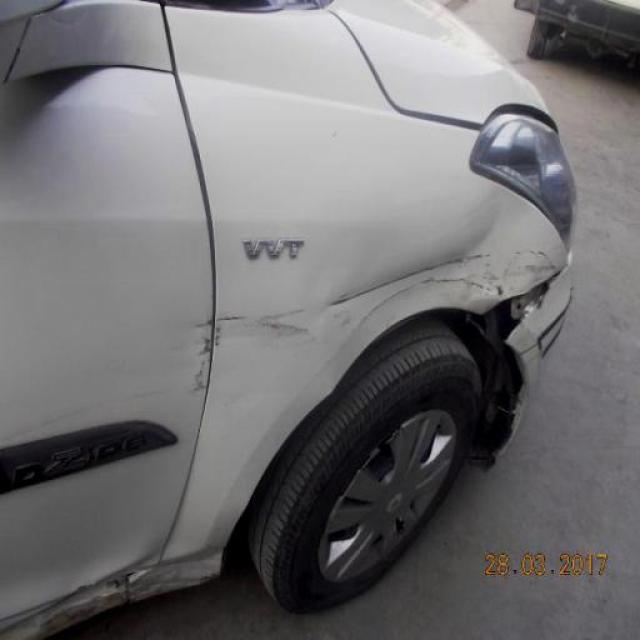Car-Damage: (186, 245, 556, 395), (0, 548, 224, 640), (482, 270, 564, 343)
